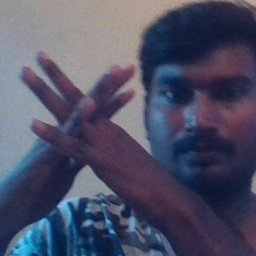W: (11, 41, 149, 206)
